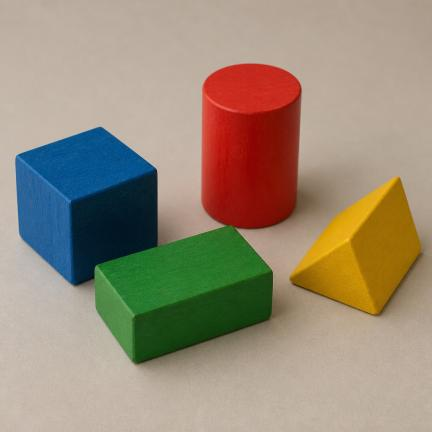BuildingBlocks: (95, 227, 272, 362), (16, 128, 157, 283), (290, 178, 421, 314), (202, 64, 301, 227)
